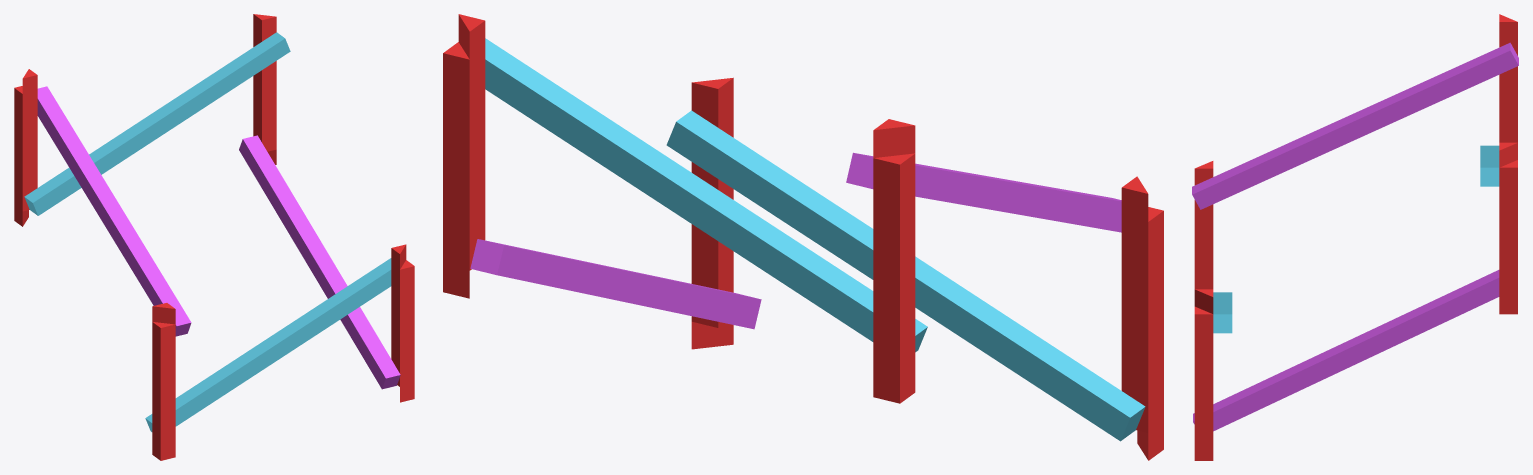
File: ModuleAssymbly_14 1.obj
3 renders of one model, left to right at view 1: azimuth 30°, elevation 25°; view 2: azimuth 150°, elevation 25°; view 3: azimuth 270°, elevation 25°, orthographic. The views are drawn at different scales.
Parts seen in each view (by area): view 1: object_5, object_6, object_8, object_7, object_1, object_4, object_3, object_2; view 2: object_6, object_5, object_3, object_2, object_1, object_8, object_7, object_4; view 3: object_7, object_8, object_4, object_2, object_1, object_3, object_5, object_6.
Boxes of the visible parts, box(x1,y1,x2,y2) form: object_5: box(24, 32, 290, 215); object_6: box(145, 258, 391, 431); object_8: box(239, 135, 400, 389); object_7: box(37, 86, 191, 336); object_1: box(152, 303, 175, 460); object_4: box(391, 244, 414, 402); object_3: box(14, 69, 37, 226); object_2: box(253, 14, 276, 164); object_6: box(666, 110, 1145, 441); object_5: box(485, 38, 927, 352); object_3: box(873, 119, 915, 403); object_2: box(443, 14, 485, 298); object_1: box(1121, 176, 1163, 460); object_8: box(470, 239, 761, 329); object_7: box(846, 152, 1121, 232); object_4: box(691, 77, 733, 349); object_7: box(1192, 42, 1518, 209); object_8: box(1193, 270, 1499, 431); object_4: box(1194, 289, 1213, 460); object_2: box(1499, 142, 1517, 314); object_1: box(1194, 161, 1213, 289); object_3: box(1499, 14, 1517, 142); object_5: box(1480, 145, 1499, 186); object_6: box(1213, 292, 1232, 333).
Size of the model in its own units: 0.6127 by 0.635 by 0.606.
